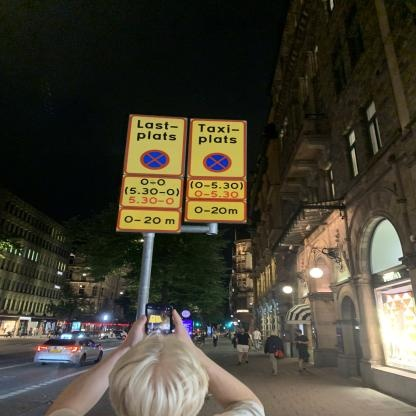lastplats: (119, 114, 188, 176)
